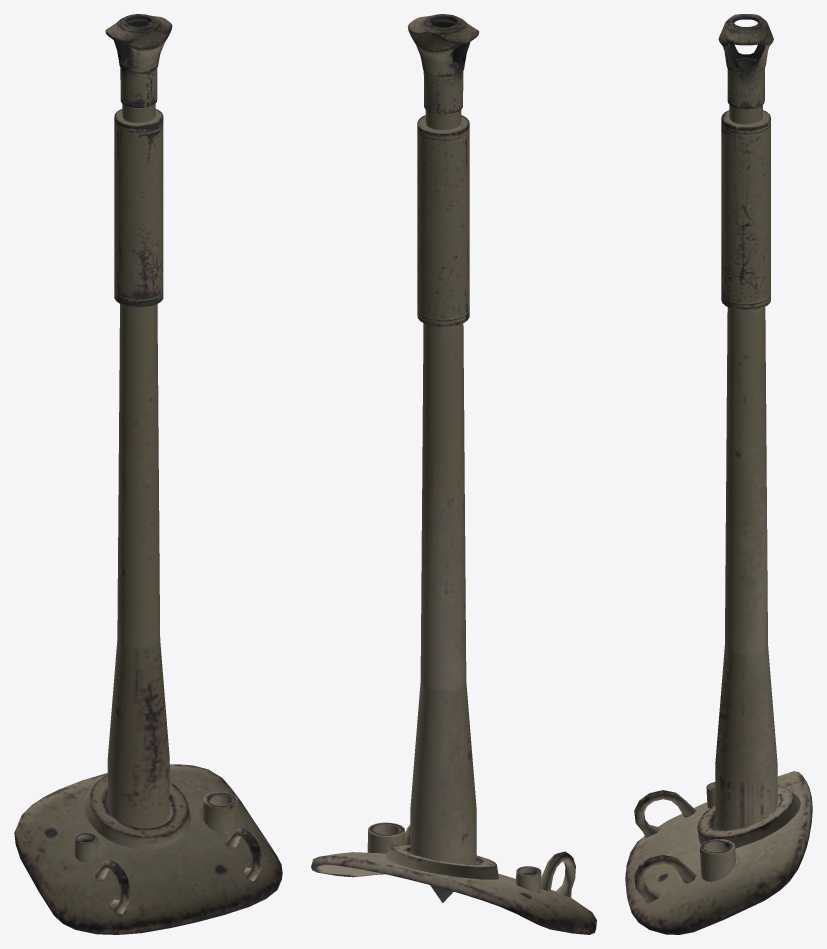
Rendered from Gun_01.glb.
3 renders of one model, left to right at view 1: azimuth 30°, elevation 25°; view 2: azimuth 150°, elevation 25°; view 3: azimuth 270°, elevation 25°, orthographic. The views are drawn at different scales.
Parts seen in each view (by area): view 1: set_0_group_0; view 2: set_0_group_0; view 3: set_0_group_0.
Part boxes in pixels (left/top/right/bottom): set_0_group_0: left=14, top=14, right=282, bottom=934; set_0_group_0: left=311, top=14, right=596, bottom=934; set_0_group_0: left=625, top=14, right=812, bottom=934.
Size of the model in its own units: 1.03 by 3.82 by 0.7508.
1 material, 1 textured.
